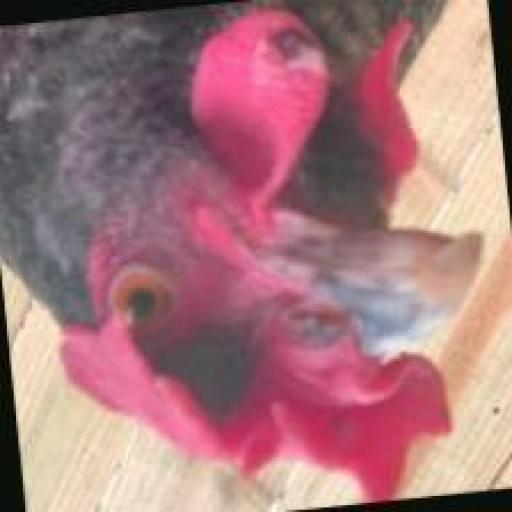disease: (223, 0, 337, 107)
